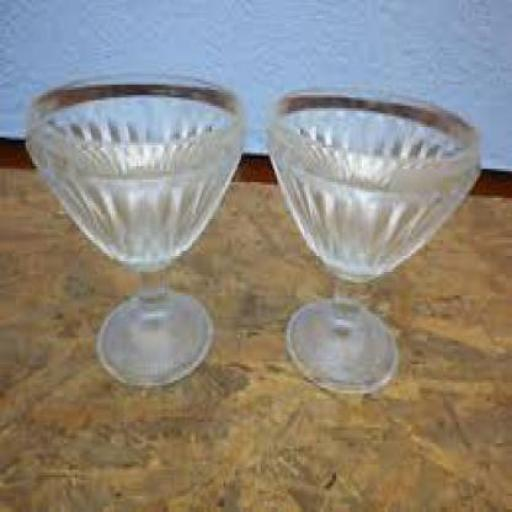glass: (23, 71, 244, 383), (264, 85, 478, 388)
